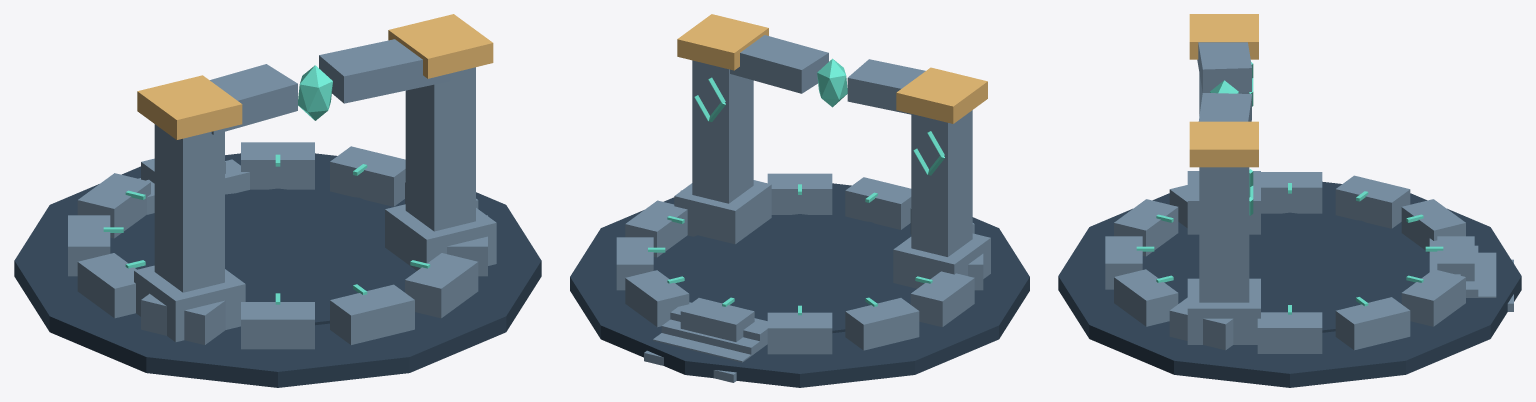
The model's file is AbyssGate.fbx.
3 views of the same model, side by side, from view 1: azimuth 30°, elevation 25°; view 2: azimuth 150°, elevation 25°; view 3: azimuth 270°, elevation 25° (orthographic). The views are drawn at different scales.
Visible parts, largest first — view 1: AbyssGate; view 2: AbyssGate; view 3: AbyssGate.
Part boxes in pixels (box(x1,y1,x2,y2)): AbyssGate: box(14, 14, 541, 387); AbyssGate: box(570, 14, 1029, 387); AbyssGate: box(1058, 14, 1521, 387).
Bounding box in the file's own units: 6 × 3 × 6.
